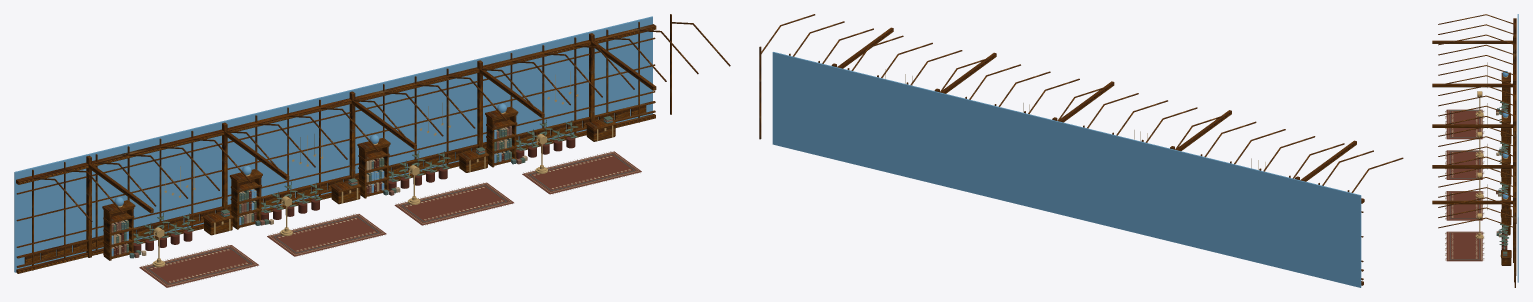
File: reference-room-1.glb
The picture shows the model from 3 angles, left to right: view 1: azimuth 30°, elevation 25°; view 2: azimuth 150°, elevation 25°; view 3: azimuth 270°, elevation 25°; orthographic projection. The views are drawn at different scales.
Visible parts, largest first — view 1: book cover, wall moulding, woven rug, lower wainscot panel, book cover.012, rug long stitch, book cover.002, brass lamp pedestal, rug long stitch.002, rug long stitch.004; view 2: book cover, wall moulding; view 3: wall moulding, woven rug, lower wainscot panel, rug long stitch, book cover, brass lamp pedestal, book cover.012, rug long stitch.002, rug long stitch.004, book cover.002.
Boxes of the visible parts, box(x1,y1,x2,y2) form: book cover: box(14, 16, 652, 272); wall moulding: box(16, 14, 730, 273); woven rug: box(139, 151, 641, 287); lower wainscot panel: box(24, 105, 646, 263); book cover.012: box(113, 116, 612, 254); rug long stitch: box(113, 139, 639, 287); book cover.002: box(112, 136, 575, 255); brass lamp pedestal: box(112, 71, 613, 267); rug long stitch.002: box(111, 119, 636, 285); rug long stitch.004: box(121, 120, 634, 284); book cover: box(772, 52, 1361, 287); wall moulding: box(759, 14, 1403, 285); wall moulding: box(1432, 14, 1516, 287); woven rug: box(1446, 109, 1482, 261); lower wainscot panel: box(1501, 82, 1516, 275); rug long stitch: box(1445, 110, 1501, 260); book cover: box(1502, 14, 1518, 282); brass lamp pedestal: box(1475, 62, 1507, 264); book cover.012: box(1496, 101, 1508, 254); rug long stitch.002: box(1449, 109, 1507, 259); rug long stitch.004: box(1450, 108, 1507, 259); book cover.002: box(1501, 108, 1507, 249).
Bounding box in the file's own units: 41.04 × 6.44 × 7.2.
Materials: 12 (5 with a texture image).
